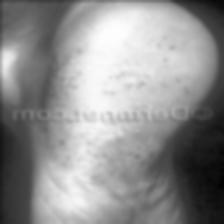Non-Cancerous Skin Condition: (22, 27, 192, 107), (44, 132, 158, 218)
